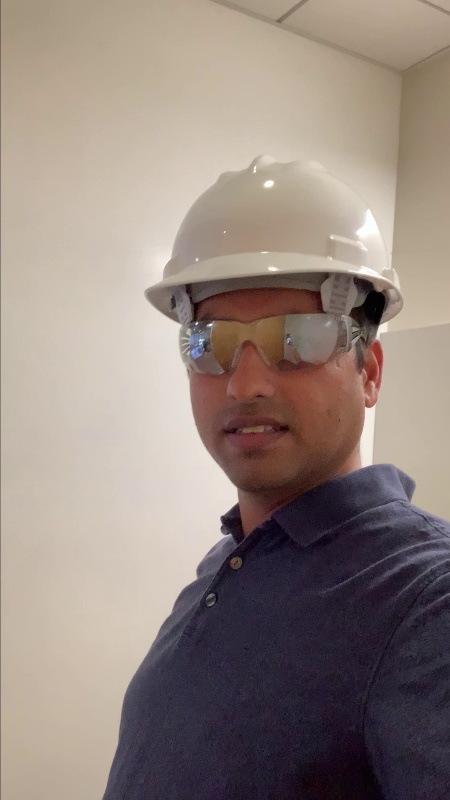glasses: (169, 306, 375, 376)
helmet: (140, 150, 414, 310)
